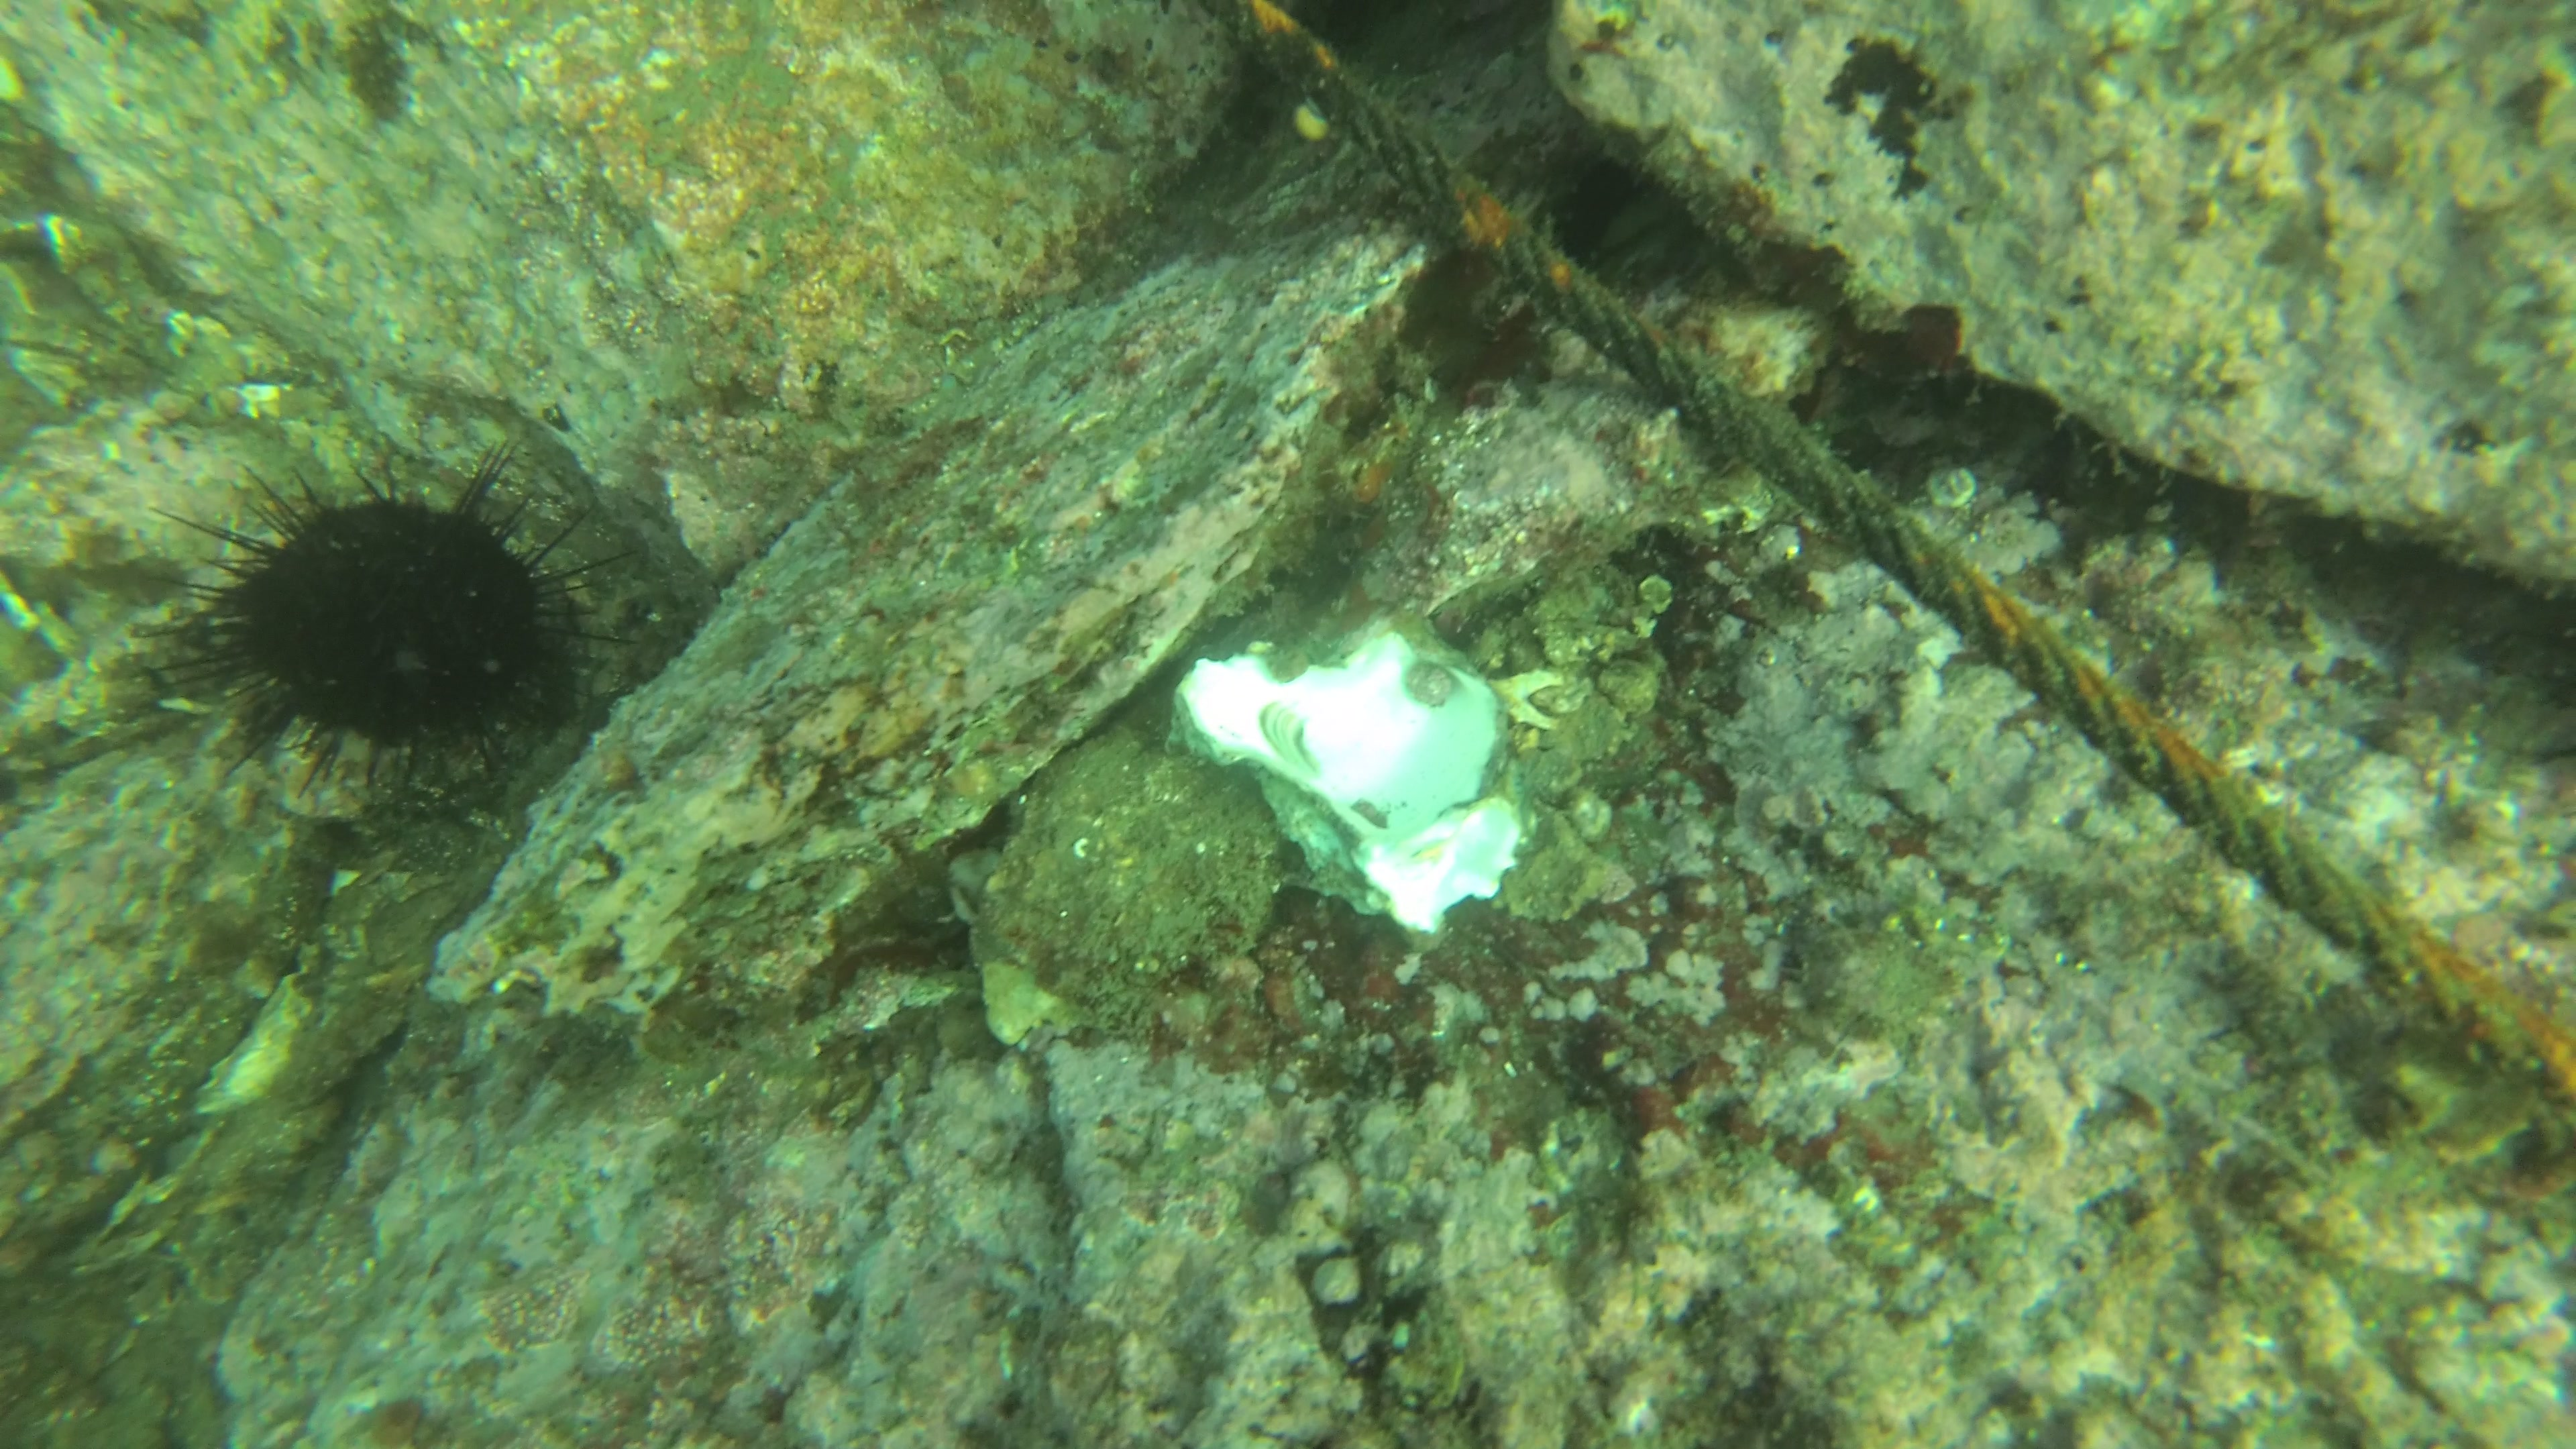echinus: (152, 453, 602, 801)
